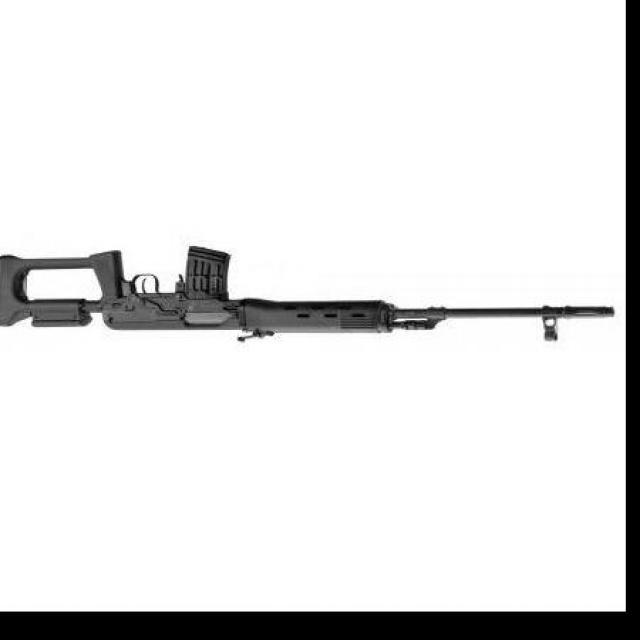weapon: (0, 244, 619, 344)
